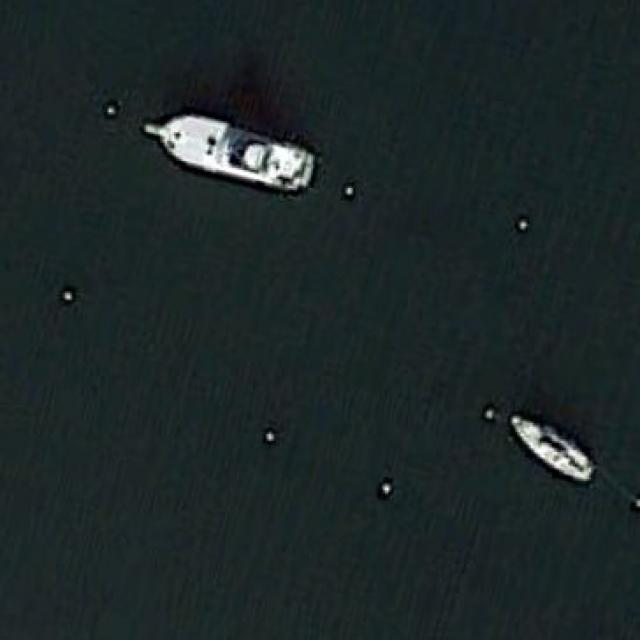boat: (141, 112, 318, 195), (508, 408, 594, 482)
